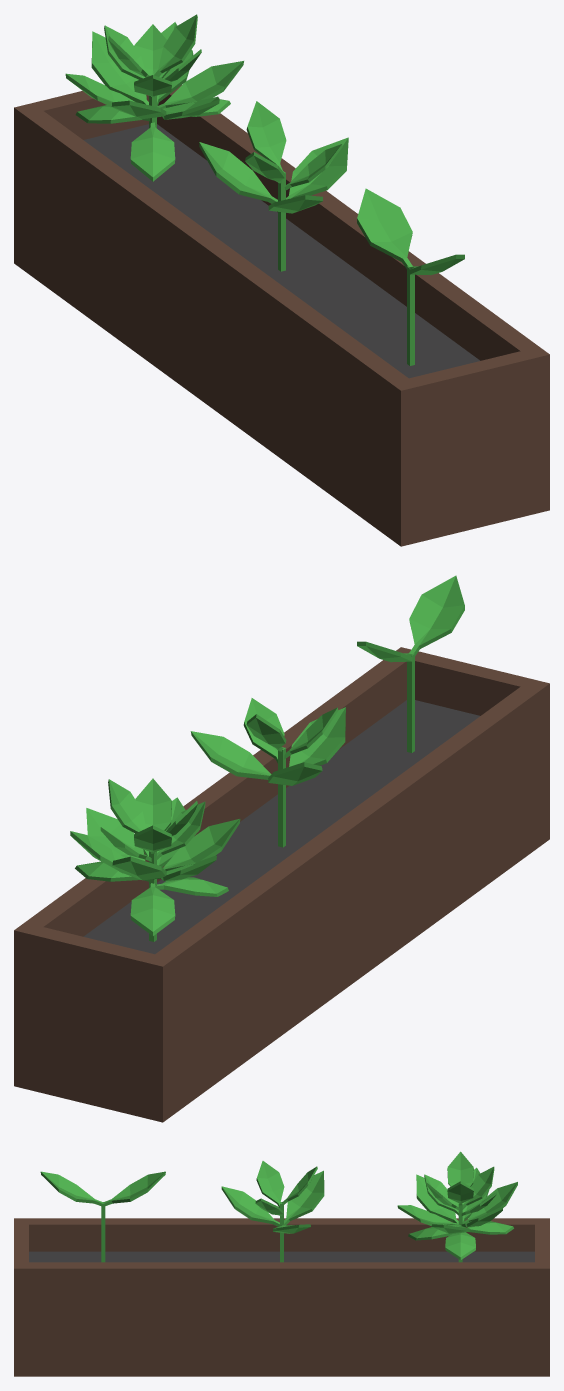
3 renders of one model, top to bottom at view 1: azimuth 30°, elevation 25°; view 2: azimuth 150°, elevation 25°; view 3: azimuth 270°, elevation 25°, orthographic. The views are drawn at different scales.
Visible parts, largest first — view 1: PlantBase_2x0.5x1_proxy.001_0, PlantBase_2x0.5x1_proxy.001_2, PlantBase_2x0.5x1_proxy.001_1; view 2: PlantBase_2x0.5x1_proxy.001_0, PlantBase_2x0.5x1_proxy.001_2, PlantBase_2x0.5x1_proxy.001_1; view 3: PlantBase_2x0.5x1_proxy.001_0, PlantBase_2x0.5x1_proxy.001_2, PlantBase_2x0.5x1_proxy.001_1.
Boxes of the visible parts, <box> form: PlantBase_2x0.5x1_proxy.001_0: <box>14,85,549,546</box>; PlantBase_2x0.5x1_proxy.001_2: <box>65,14,464,365</box>; PlantBase_2x0.5x1_proxy.001_1: <box>83,124,480,378</box>; PlantBase_2x0.5x1_proxy.001_0: <box>14,647,549,1122</box>; PlantBase_2x0.5x1_proxy.001_2: <box>70,575,464,941</box>; PlantBase_2x0.5x1_proxy.001_1: <box>83,700,479,954</box>; PlantBase_2x0.5x1_proxy.001_0: <box>14,1218,549,1376</box>; PlantBase_2x0.5x1_proxy.001_2: <box>40,1151,517,1262</box>; PlantBase_2x0.5x1_proxy.001_1: <box>29,1251,534,1262</box>.
Bounding box in the file's own units: 0.4154 × 0.6863 × 1.8.
